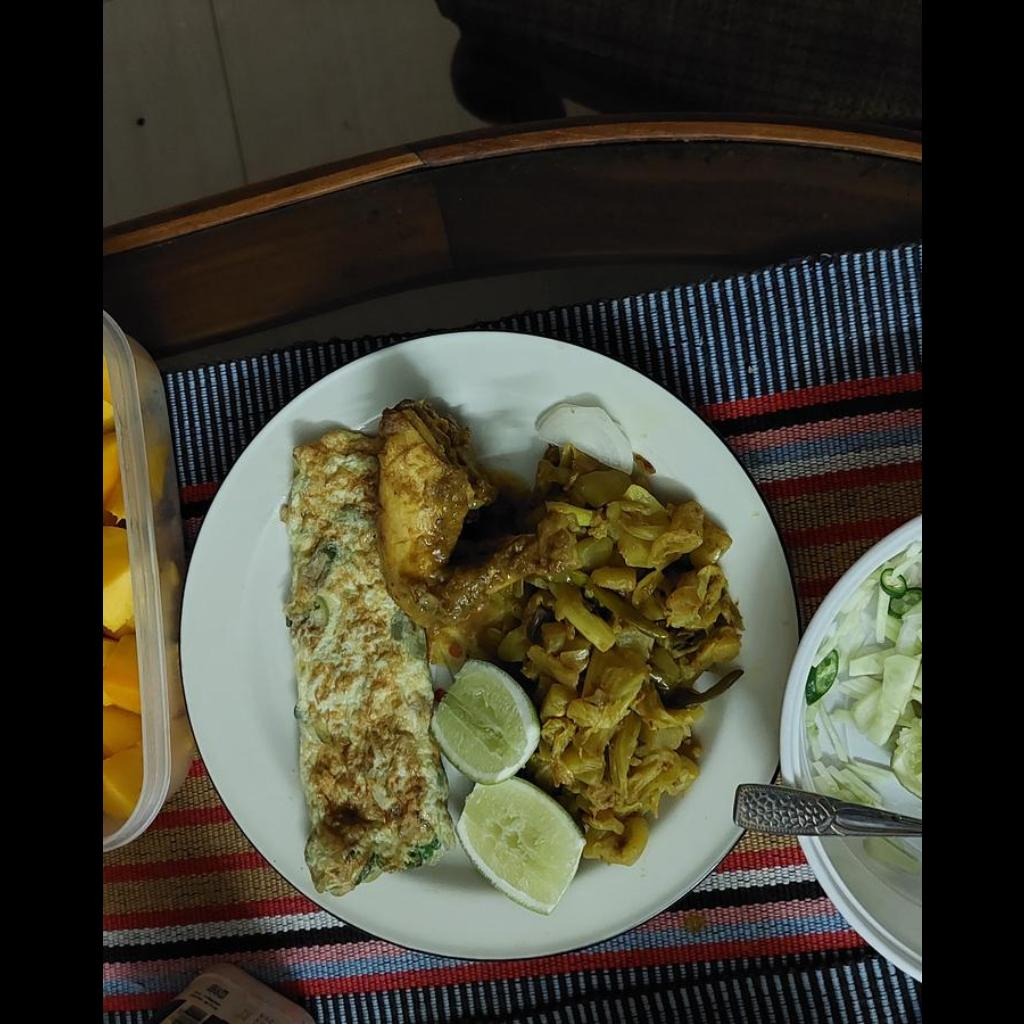chicken: (379, 399, 535, 666)
egg-poached: (278, 424, 456, 892)
lemon: (436, 665, 592, 914)
salad: (793, 543, 920, 815)
vaji: (479, 440, 754, 870)
